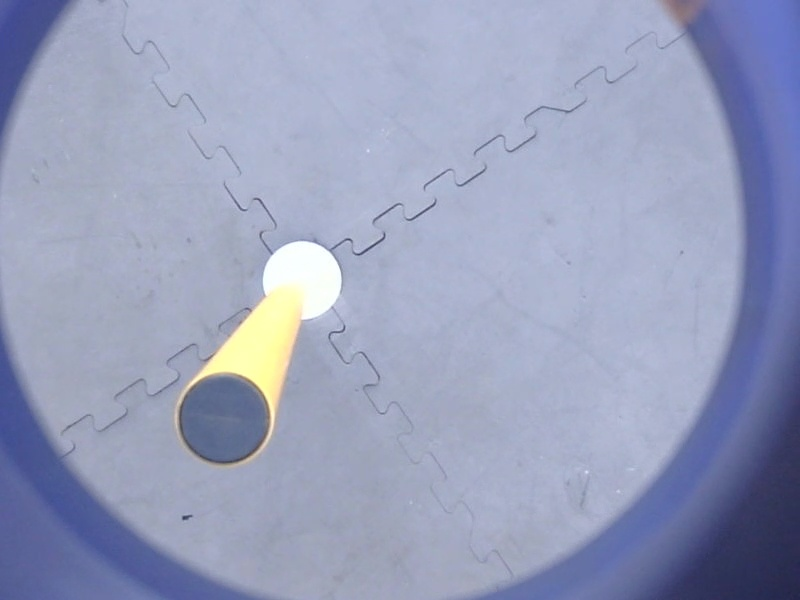tip: (170, 367, 280, 473)
